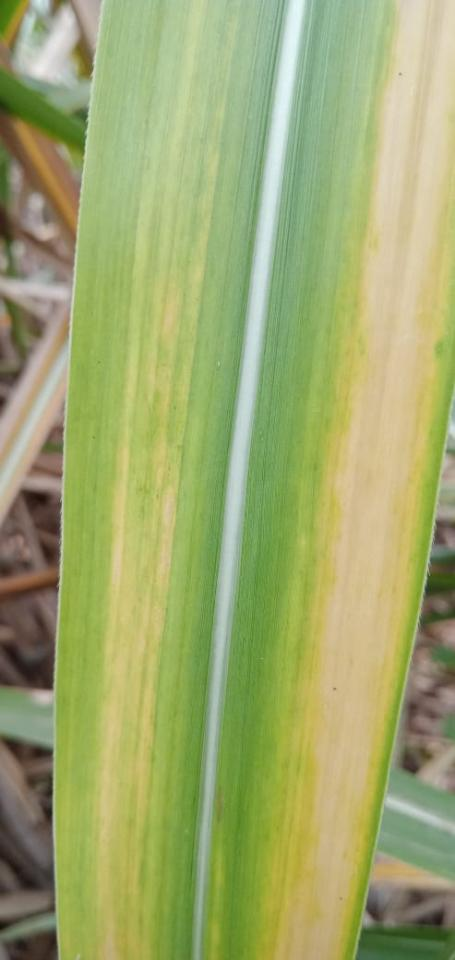Yellow: (261, 0, 454, 959), (94, 441, 177, 959)
